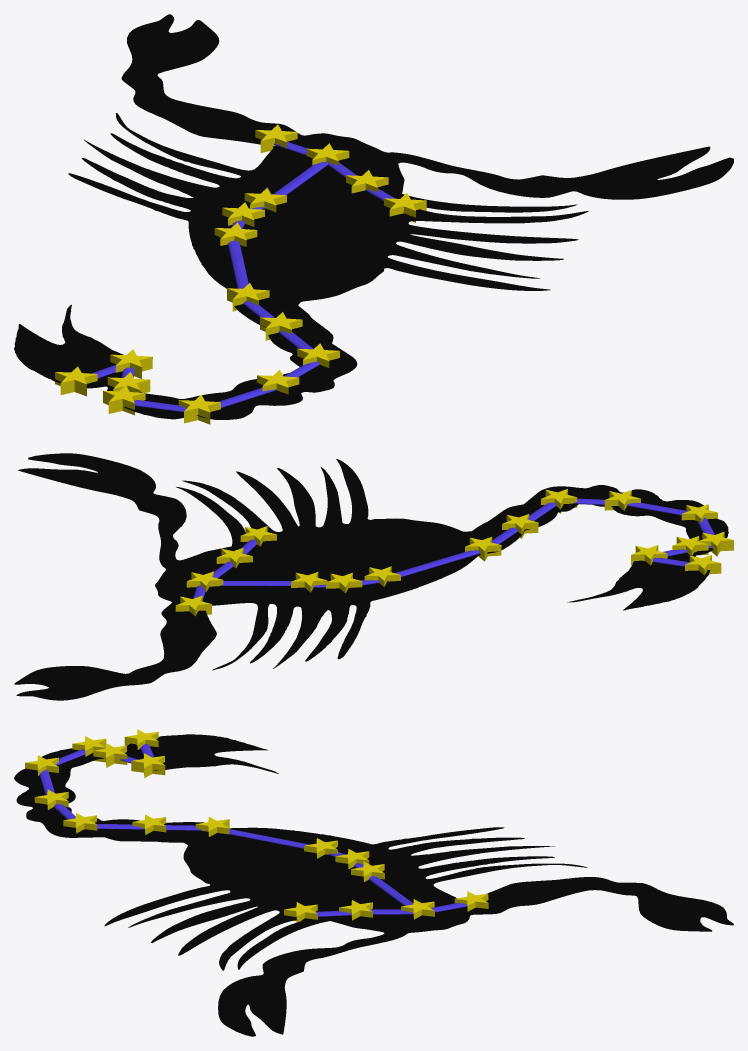
The model's file is Sasori-za.glb.
3 views of the same model, one above another, from view 1: azimuth 30°, elevation 25°; view 2: azimuth 150°, elevation 25°; view 3: azimuth 270°, elevation 25° (orthographic). The views are drawn at different scales.
Visible parts, largest first — view 1: トレース, 円.006, 円.008, 円.004, 円.007, 円.015, 円.002, 円.012; view 2: トレース, 円柱, 円.001, 円.002, 円.006, 円.008, 円.015, 円.005, 円.010, 円.014, 円.009, 円.007 (+6 smaller); view 3: トレース, 円.007, 円.009.
Part boxes in pixels (x1,y1,x2,y2): トレース: (14,14,733,419); 円.006: (55,366,97,396); 円.008: (103,385,145,415); 円.004: (178,394,220,424); 円.007: (110,349,152,378); 円.015: (255,124,297,152); 円.002: (260,312,302,340); 円.012: (384,193,426,222); トレース: (14,453,728,700); 円柱: (395,550,479,576); 円.001: (465,537,501,561); 円.002: (502,514,538,538); 円.006: (685,555,721,575); 円.008: (698,531,733,556); 円.015: (175,595,211,616); 円.005: (604,490,640,514); 円.010: (326,572,362,593); 円.014: (186,571,223,591); 円.009: (672,536,708,555); 円.007: (631,545,667,565); トレース: (14,734,733,1036); 円.007: (131,753,165,778); 円.009: (93,743,127,767).
Bounding box in the file's own units: 57.22 × 0.9337 × 57.57.
